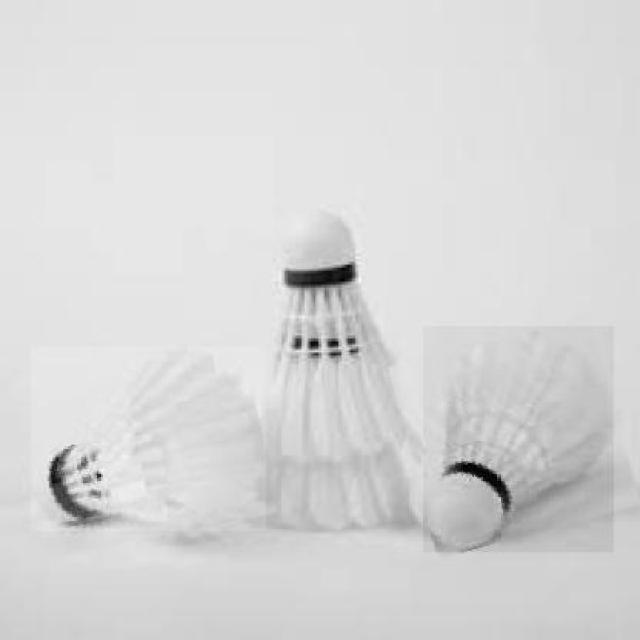Shuttlecock: (29, 345, 265, 529), (422, 325, 612, 551)
